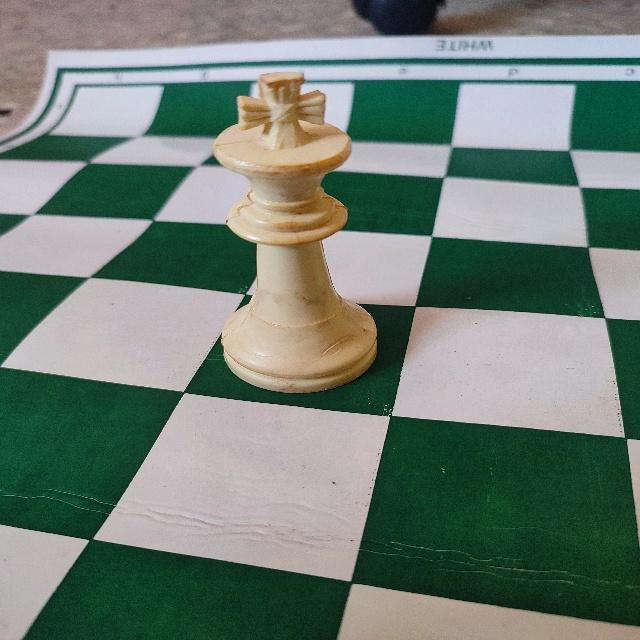King: (211, 70, 383, 398)
